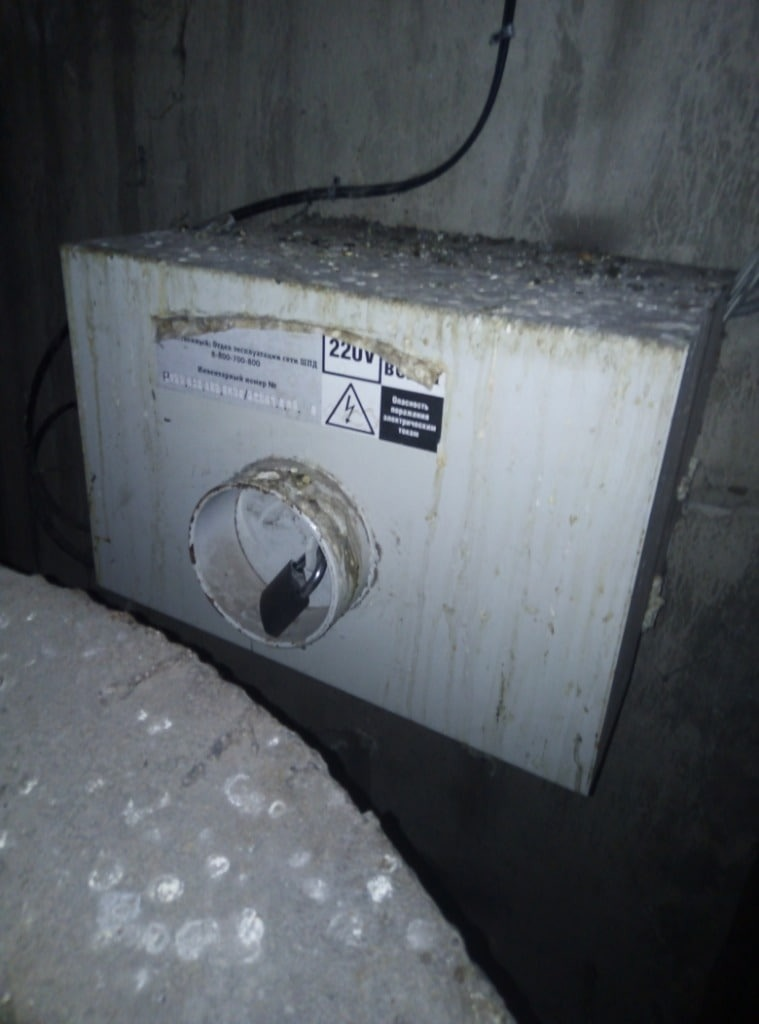shta-3: (56, 207, 745, 807)
